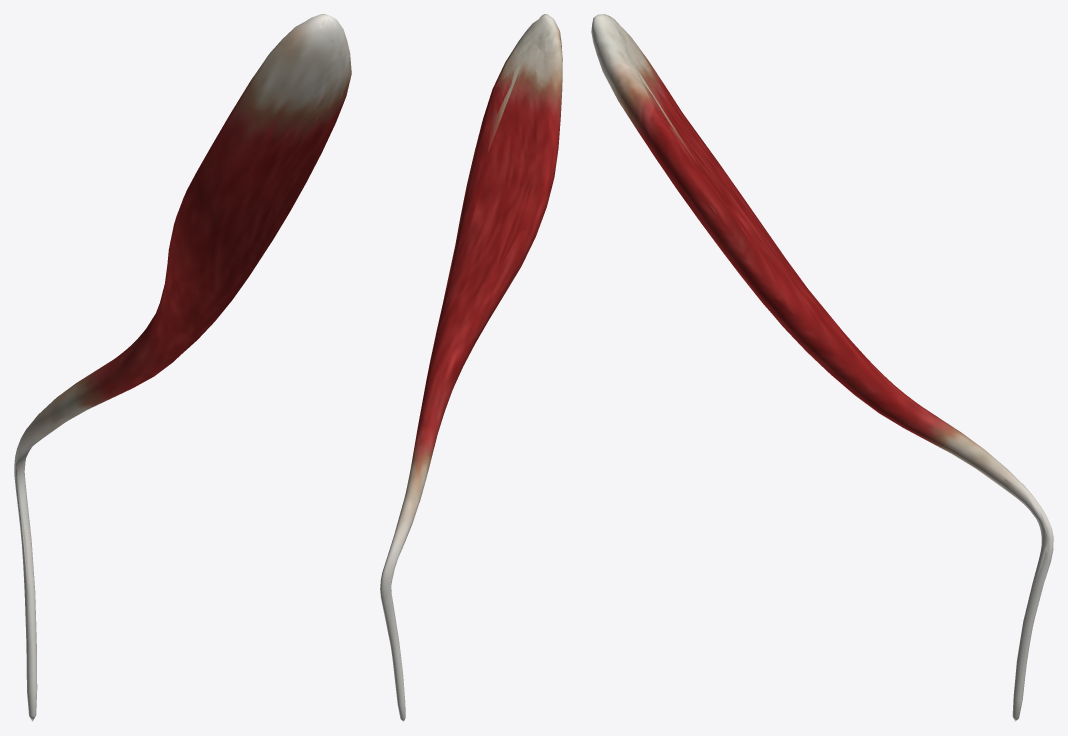
The model's file is L Extensor digitorum lateralis.fbx.
3 renders of one model, left to right at view 1: azimuth 30°, elevation 25°; view 2: azimuth 150°, elevation 25°; view 3: azimuth 270°, elevation 25°, orthographic. The views are drawn at different scales.
Visible parts, largest first — view 1: L Extensor digitorum lateralis, L Extensor digitorum lateralis low, L Extensor digitorum lateralis high; view 2: L Extensor digitorum lateralis, L Extensor digitorum lateralis low, L Extensor digitorum lateralis high; view 3: L Extensor digitorum lateralis, L Extensor digitorum lateralis low, L Extensor digitorum lateralis high.
Part boxes in pixels (x1,y1,x2,y2): L Extensor digitorum lateralis: (14, 14, 351, 721); L Extensor digitorum lateralis low: (15, 15, 351, 645); L Extensor digitorum lateralis high: (15, 19, 346, 671); L Extensor digitorum lateralis: (380, 14, 562, 721); L Extensor digitorum lateralis low: (380, 14, 561, 699); L Extensor digitorum lateralis high: (383, 18, 561, 690); L Extensor digitorum lateralis: (591, 14, 1053, 721); L Extensor digitorum lateralis low: (593, 15, 1053, 698); L Extensor digitorum lateralis high: (592, 16, 1049, 682).
Bounding box in the file's own units: 1.71 × 11.72 × 6.81.
